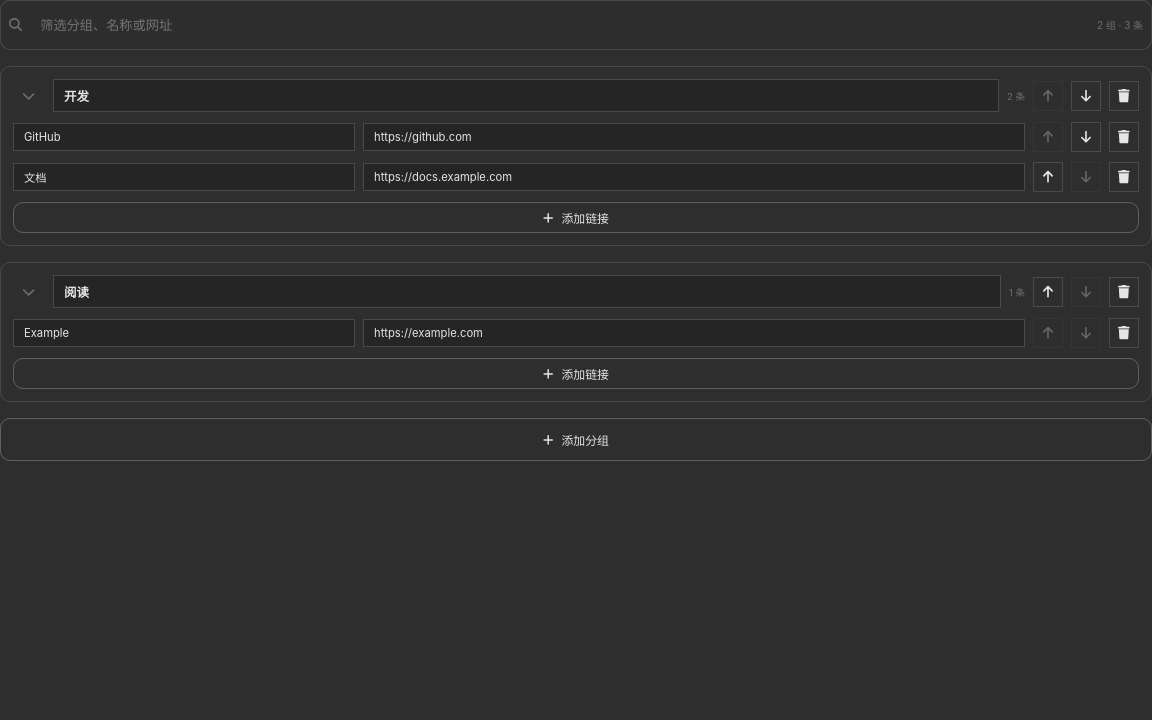
Scenario: LinkGroupEditor › uses an in-product confirmation and keeps deletion in the draft
Later steps or results of the test are not shown.
Click the button named "删除分组 开发": click(1124, 96) [1109,80,1139,110]
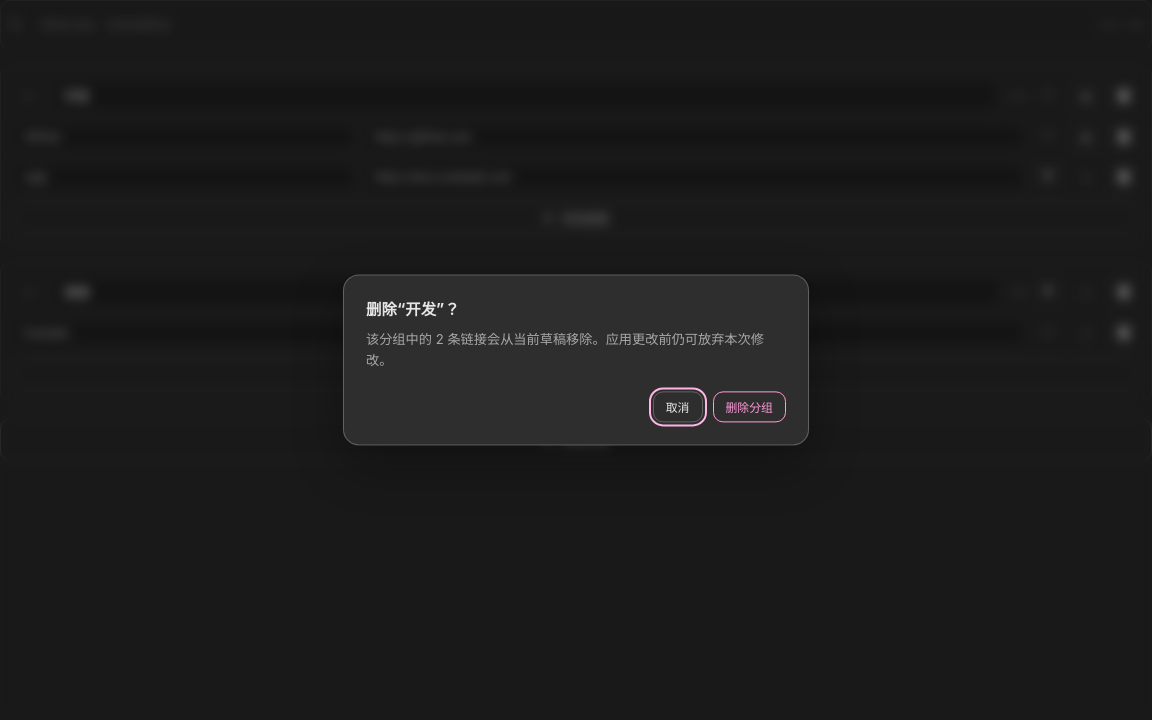
expect the text "应用更改前仍可放弃本次修改" is shown: met, box [366,331,764,368]
